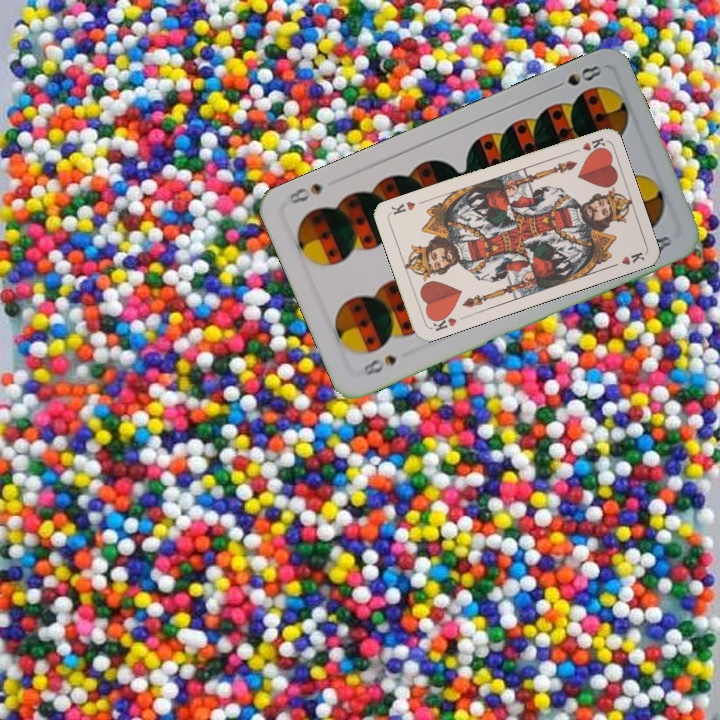HK: (566, 133, 607, 156), (427, 309, 459, 333)
S8: (548, 61, 605, 92), (359, 351, 400, 379)
